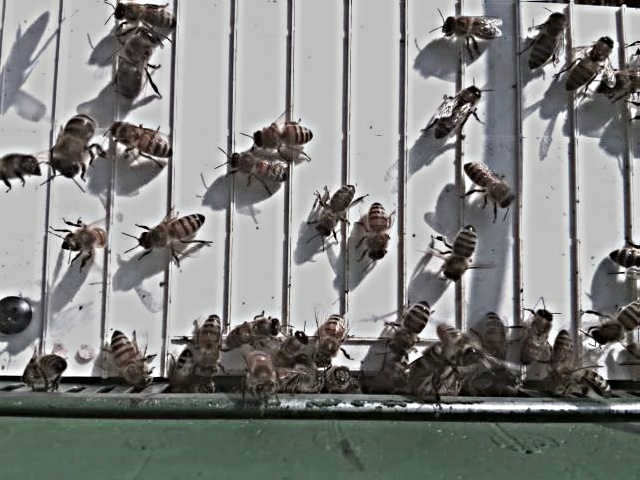Drone: (113, 23, 161, 104)
Worker: (50, 110, 98, 183), (431, 81, 485, 144), (565, 32, 616, 95), (138, 208, 209, 252), (109, 117, 177, 159), (461, 158, 518, 208), (312, 180, 359, 239), (526, 7, 568, 72), (390, 296, 432, 359), (227, 149, 293, 187), (110, 327, 151, 384), (442, 220, 478, 284), (519, 303, 556, 365), (312, 307, 349, 369), (253, 119, 318, 153), (59, 218, 112, 258), (111, 0, 179, 31), (196, 309, 226, 377), (442, 11, 505, 43), (231, 311, 286, 347), (364, 197, 392, 264)
